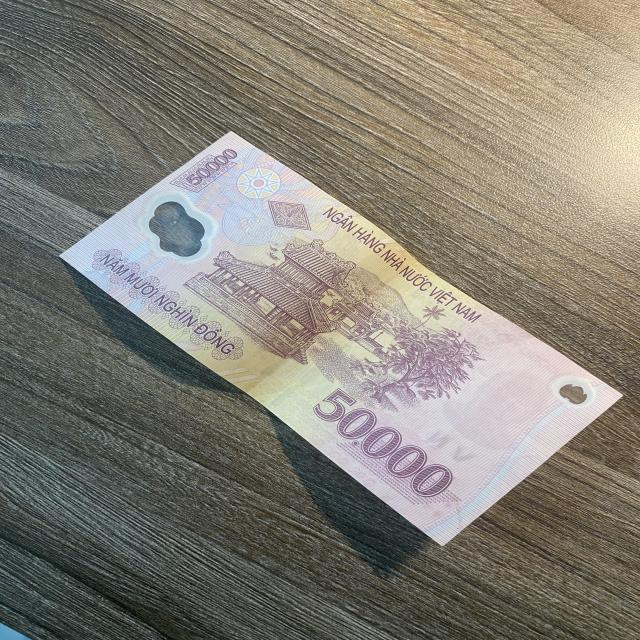50 000 VND: (56, 130, 624, 548)
